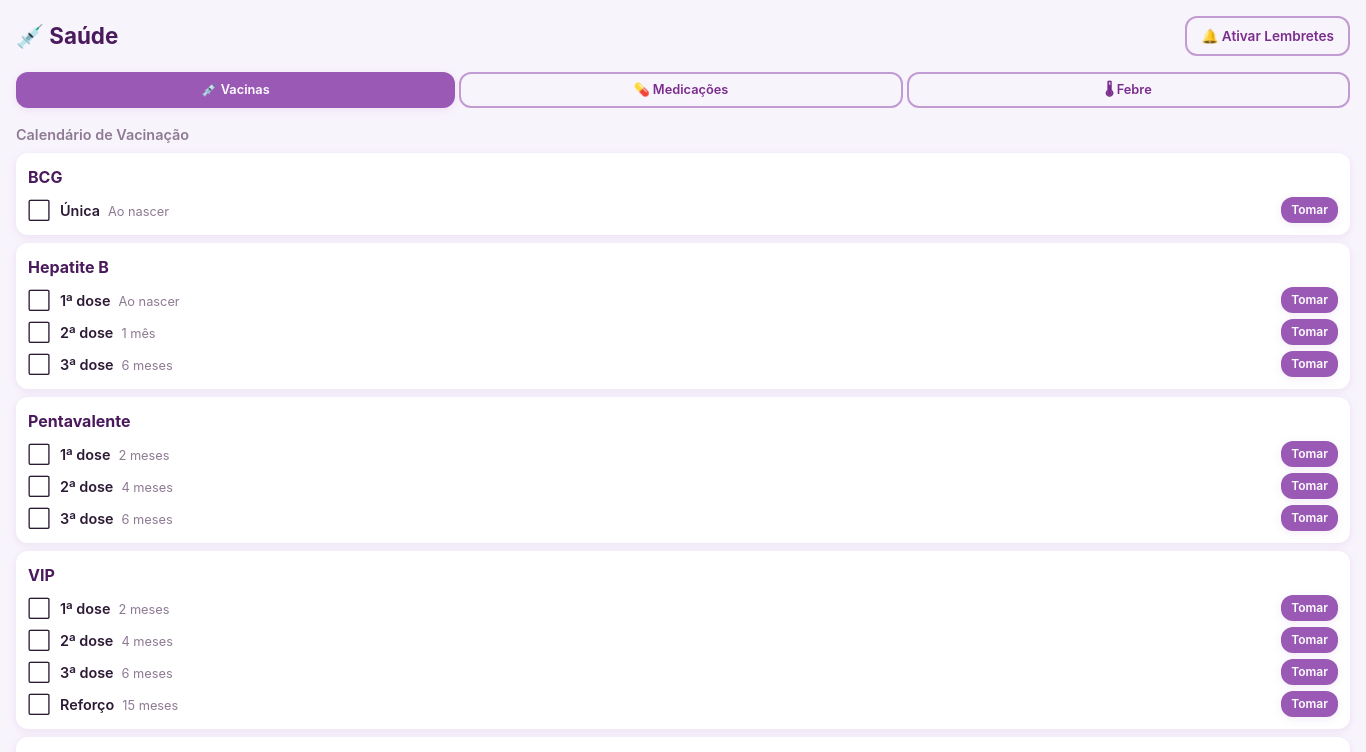
it: Health › shows medication history list
Click the button "💊 Medicações": [681, 90] box [459,72,903,108]
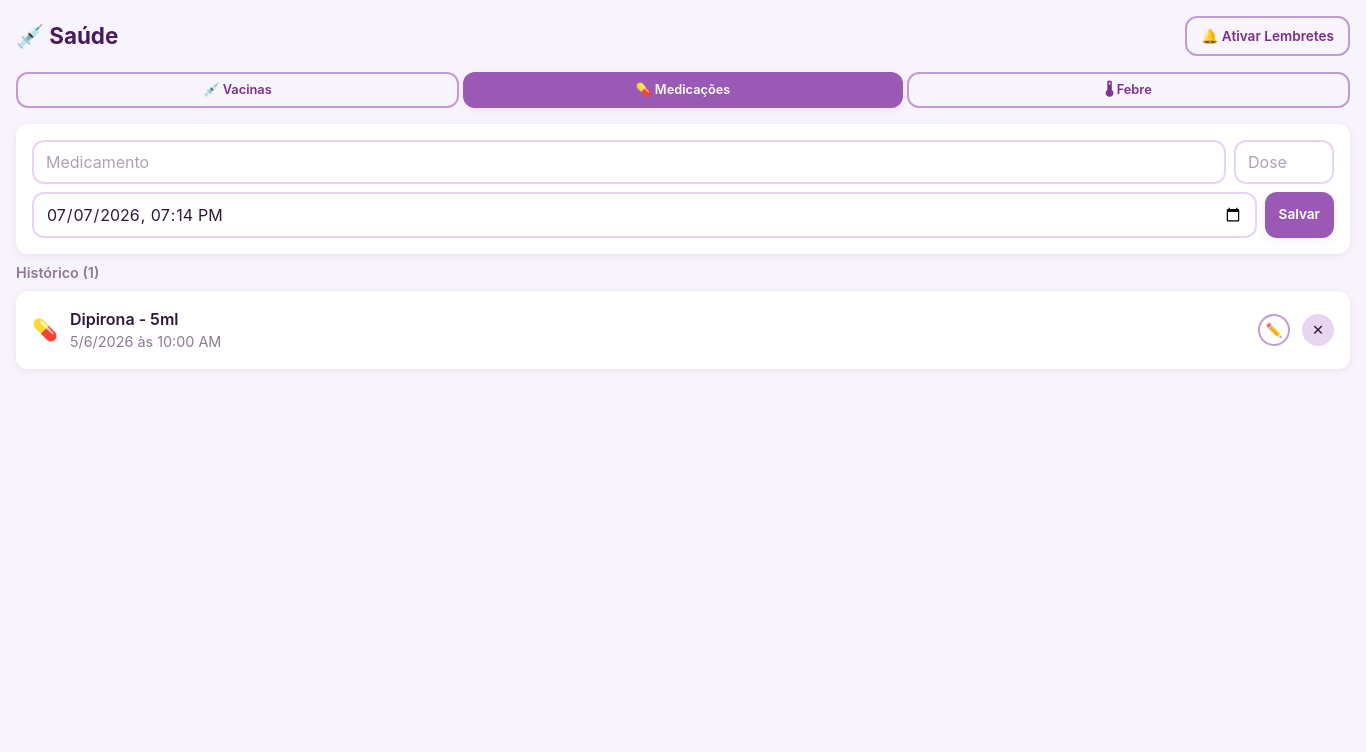
expect the text "Dipirona - 5ml" is shown: met, box [70,309,178,329]
